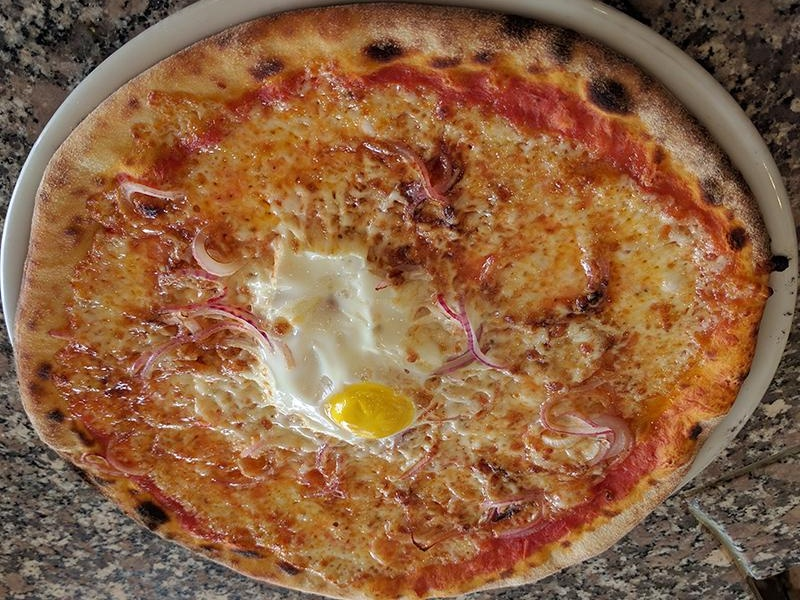oeuf: (304, 338, 431, 447)
